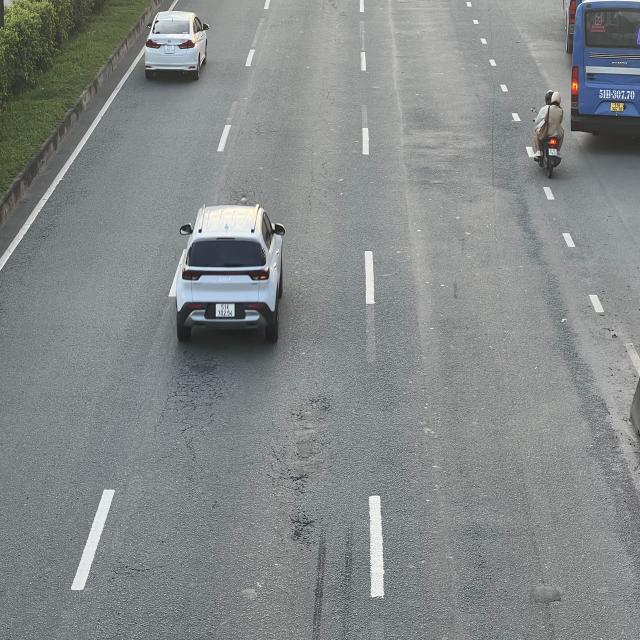car: (176, 208, 290, 346), (144, 11, 209, 79)
coach: (570, 2, 640, 138)
